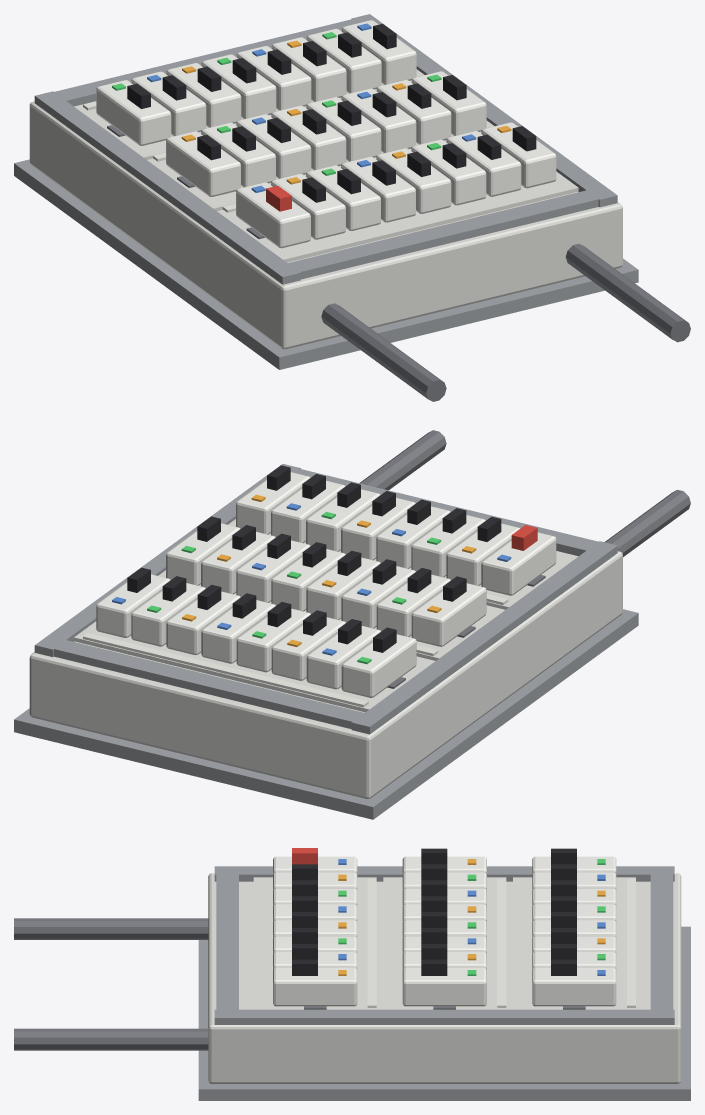
Rendered from extended_board24.obj.
3 views of the same model, one above another, from view 1: azimuth 30°, elevation 25°; view 2: azimuth 150°, elevation 25°; view 3: azimuth 270°, elevation 25° (orthographic). The views are drawn at different scales.
Bounding box in the file's own units: 0.594 × 0.193 × 1.05.
Materials: 1 (1 with a texture image).
